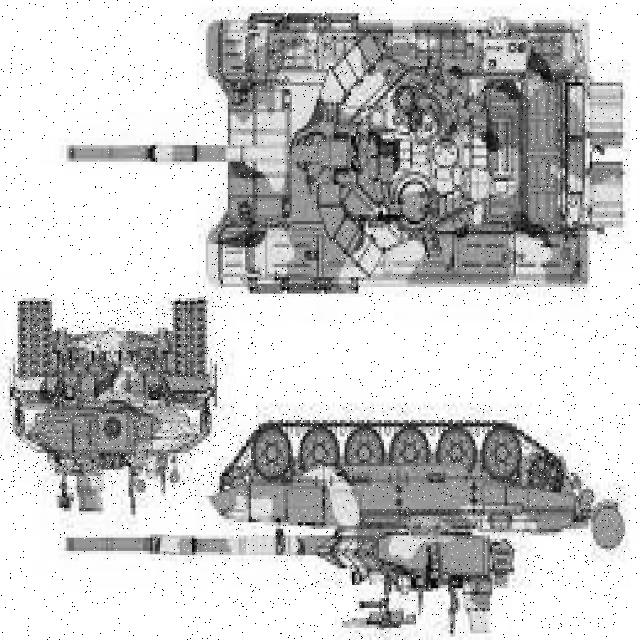MIL_MBT: (199, 15, 607, 305), (169, 403, 626, 627), (11, 293, 226, 497)
